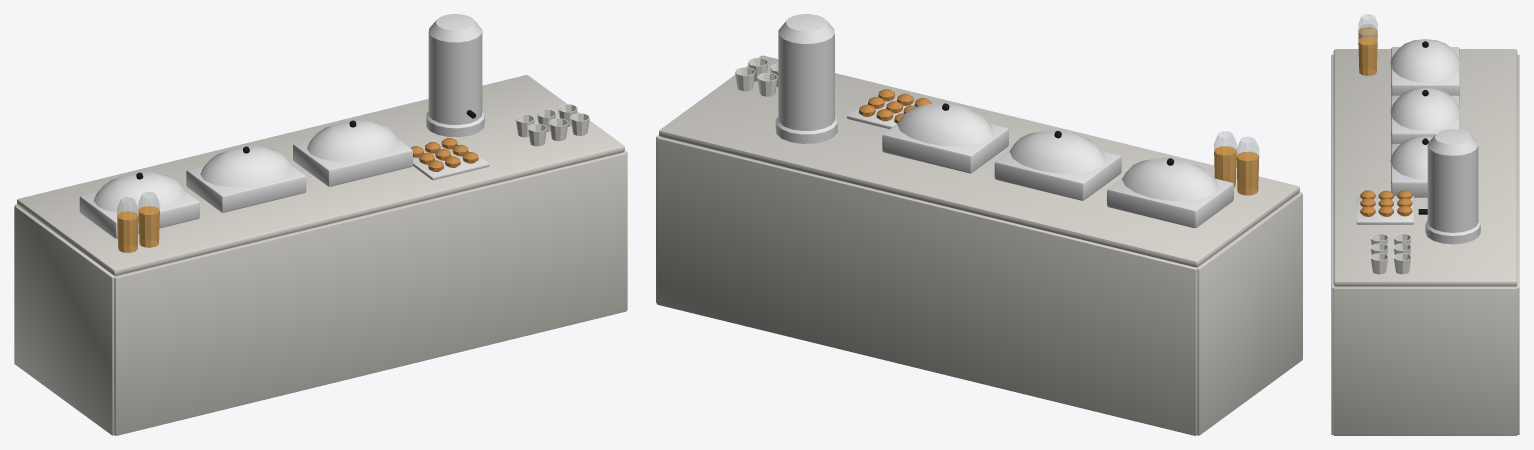
The model's file is meridian_buffet.glb.
3 views of the same model, side by side, from view 1: azimuth 30°, elevation 25°; view 2: azimuth 150°, elevation 25°; view 3: azimuth 270°, elevation 25° (orthographic). The views are drawn at different scales.
Visible parts, largest first — view 1: meridian_buffet; view 2: meridian_buffet; view 3: meridian_buffet.
Part boxes in pixels (x1=…): meridian_buffet: x1=14, y1=14, x2=627, y2=435; meridian_buffet: x1=656, y1=14, x2=1302, y2=435; meridian_buffet: x1=1331, y1=14, x2=1519, y2=435.
Size of the model in its own units: 2.42 by 1.21 by 0.82.
